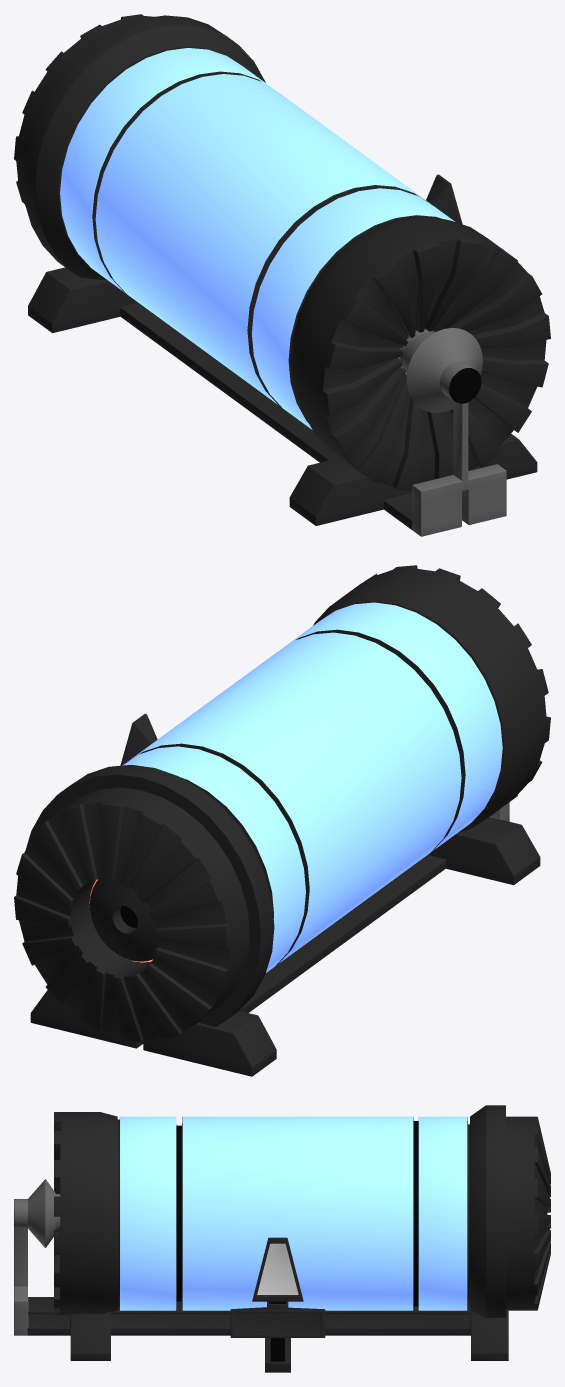
Rendered from GlassTank.fbx.
3 views of the same model, one above another, from view 1: azimuth 30°, elevation 25°; view 2: azimuth 150°, elevation 25°; view 3: azimuth 270°, elevation 25° (orthographic). The views are drawn at different scales.
Visible parts, largest first — view 1: TankGlass.001; view 2: TankGlass.001; view 3: TankGlass.001.
Boxes of the visible parts, box(x1,y1,x2,y2) form: TankGlass.001: box(14, 14, 550, 536); TankGlass.001: box(14, 565, 550, 1076); TankGlass.001: box(14, 1105, 550, 1372).
Size of the model in its own units: 431 by 388 by 916.
